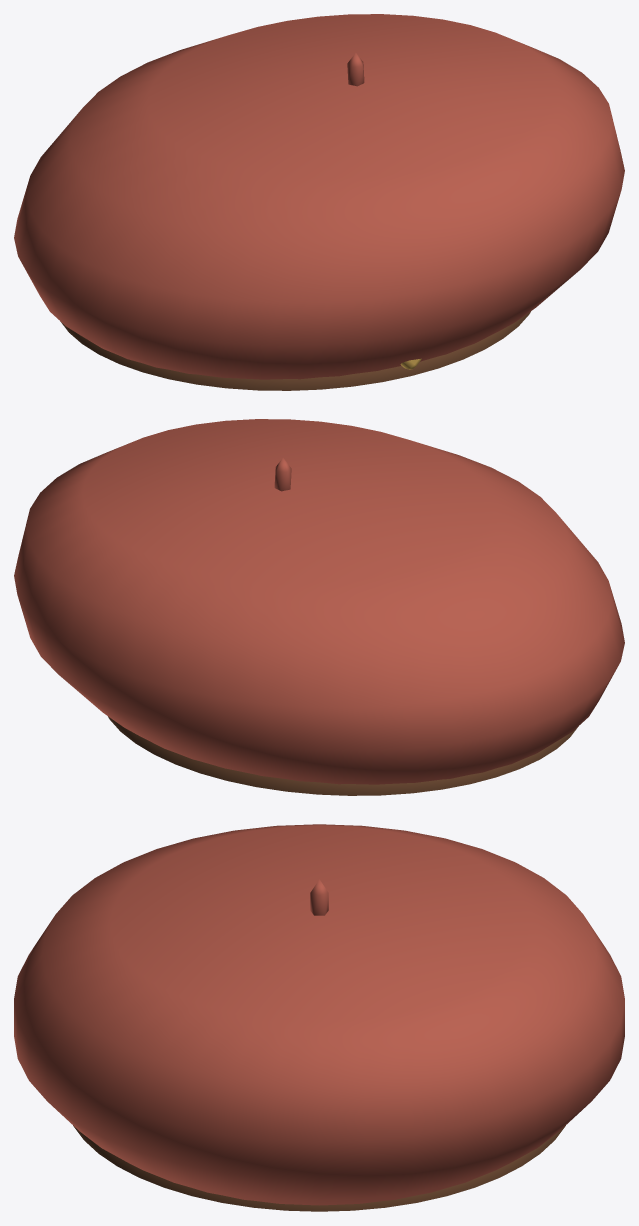
File: 16-embers-beret.glb
The picture shows the model from 3 angles, top to bottom: view 1: azimuth 30°, elevation 25°; view 2: azimuth 150°, elevation 25°; view 3: azimuth 270°, elevation 25°; orthographic projection. The views are drawn at different scales.
Parts seen in each view (by area): view 1: Hat16_WoolCrown1, Hat16_Band2; view 2: Hat16_WoolCrown1, Hat16_Band2; view 3: Hat16_WoolCrown1, Hat16_Band2, Hat16_RoundDetail3.
Boxes of the visible parts, x1=… form: Hat16_WoolCrown1: x1=14, y1=14, x2=624, y2=379; Hat16_Band2: x1=60, y1=311, x2=530, y2=390; Hat16_WoolCrown1: x1=14, y1=419, x2=624, y2=784; Hat16_Band2: x1=108, y1=716, x2=578, y2=795; Hat16_WoolCrown1: x1=14, y1=824, x2=624, y2=1205; Hat16_Band2: x1=73, y1=1125, x2=565, y2=1211; Hat16_RoundDetail3: x1=310, y1=879, x2=328, y2=915.
Size of the model in its own units: 0.7786 by 0.311 by 0.684.
